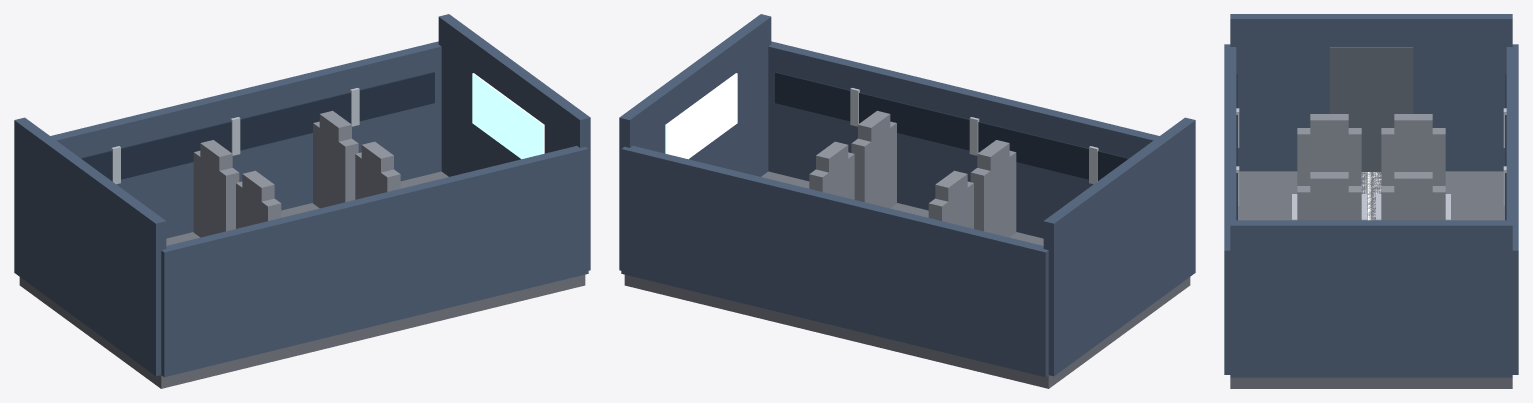
The model's file is cabin-4.glb.
3 renders of one model, left to right at view 1: azimuth 30°, elevation 25°; view 2: azimuth 150°, elevation 25°; view 3: azimuth 270°, elevation 25°, orthographic.
Parts seen in each view (by area): view 1: shell, seat_4, seat_2, seat_1, seat_3; view 2: shell, seat_3, seat_1, seat_2, seat_4; view 3: shell, seat_3, seat_4, seat_1, seat_2.
Part boxes in pixels (x1,y1,x2,y2): shell: [14, 14, 590, 388]; seat_4: [193, 140, 239, 237]; seat_2: [313, 110, 358, 208]; seat_1: [355, 141, 400, 199]; seat_3: [236, 170, 281, 228]; shell: [619, 14, 1195, 388]; seat_3: [970, 140, 1016, 237]; seat_1: [851, 110, 896, 208]; seat_2: [809, 141, 854, 199]; seat_4: [928, 170, 973, 228]; shell: [1224, 14, 1518, 388]; seat_3: [1292, 114, 1366, 220]; seat_4: [1376, 114, 1450, 220]; seat_1: [1297, 172, 1361, 220]; seat_2: [1381, 172, 1445, 220].
Size of the model in its own units: 1 by 0.3659 by 0.5885.
